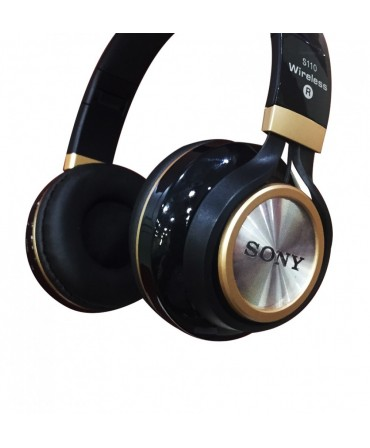Headphone: (20, 25, 347, 345)
